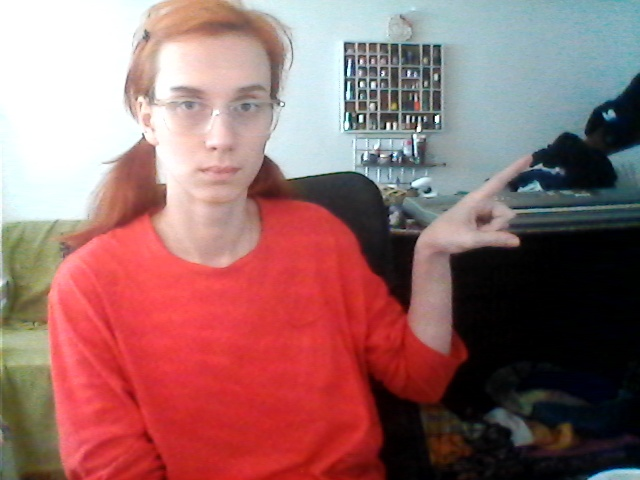on: (384, 151, 546, 409)
